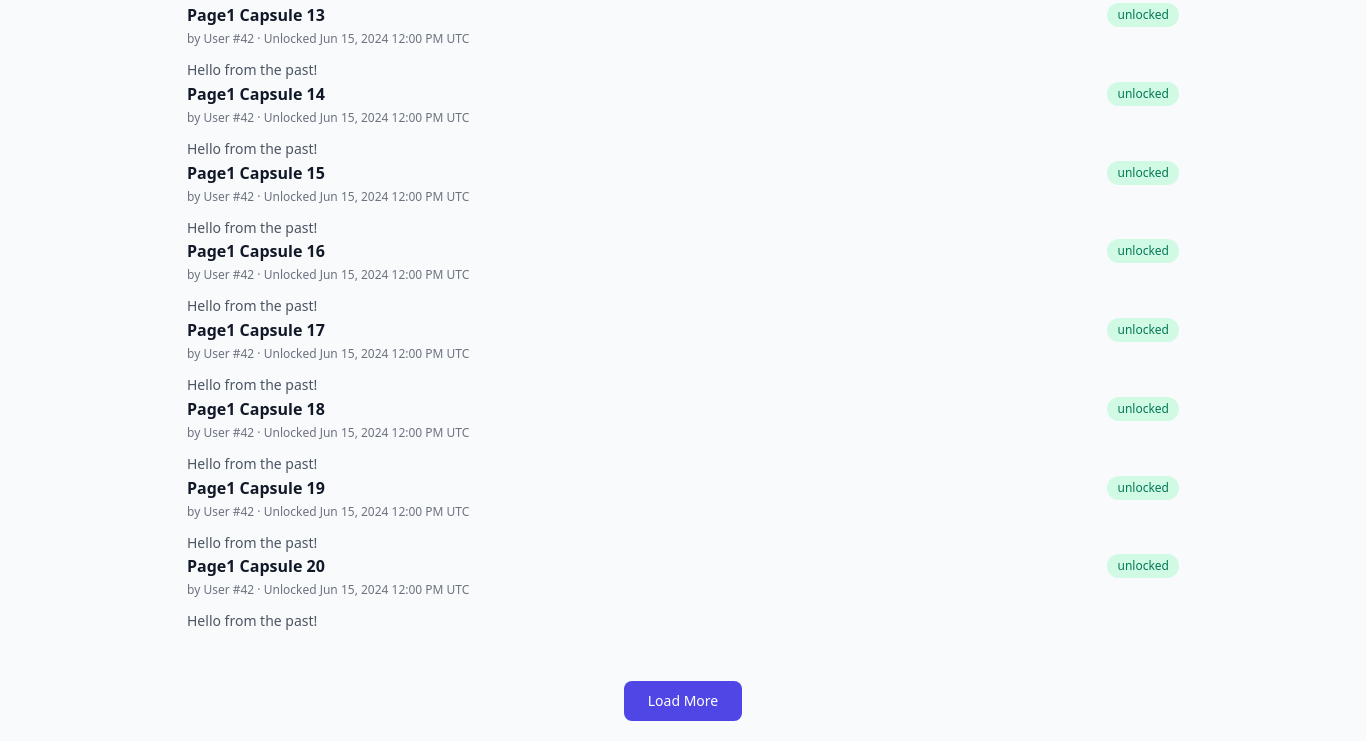
it: PublicFeedPage - Pagination › loads more capsules when Load More is clicked
(page scrolled)
What coordinates should you click on to do the following:
click the button "Load More"
I would click on:
 (683, 701)
Its box is [624,681,742,721].
(page scrolled)
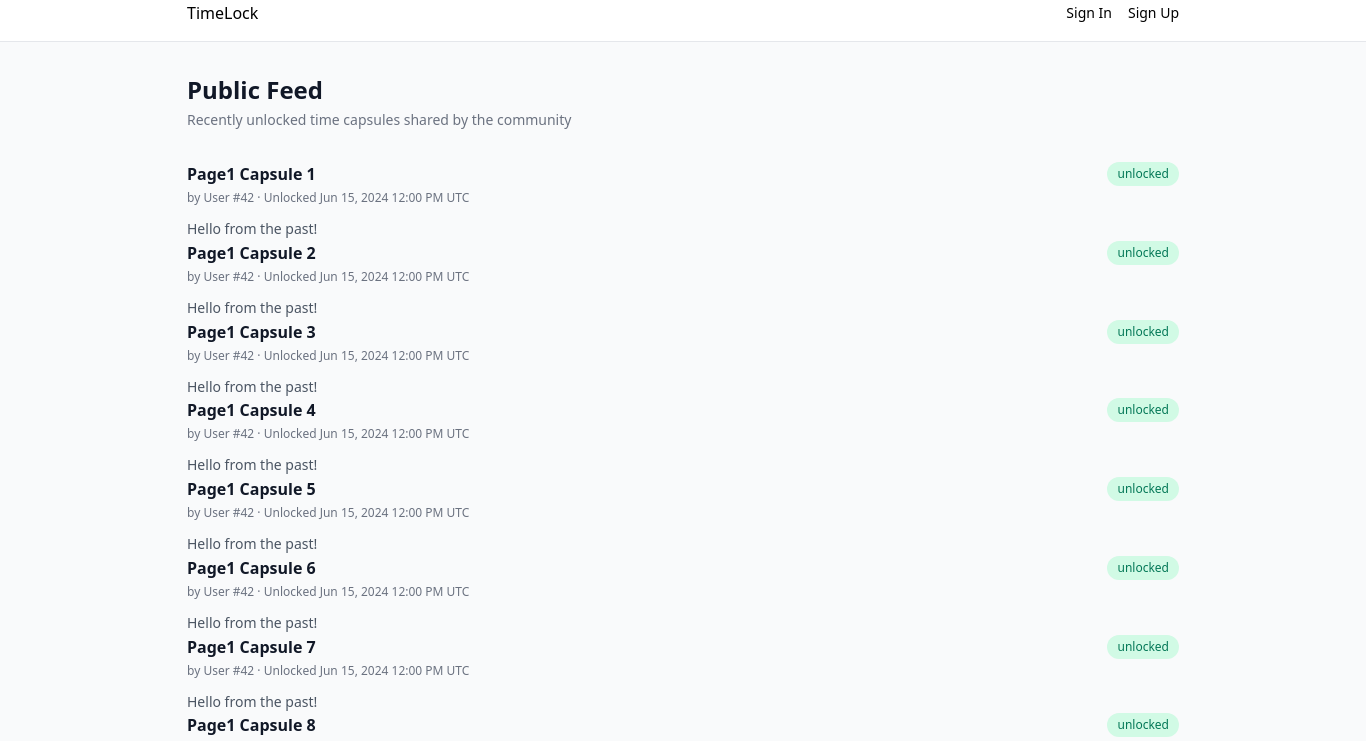
Check: the heading "Page1 Capsule 1" is shown, box [187,163,316,185]
Check: the button "Load More" is gone
